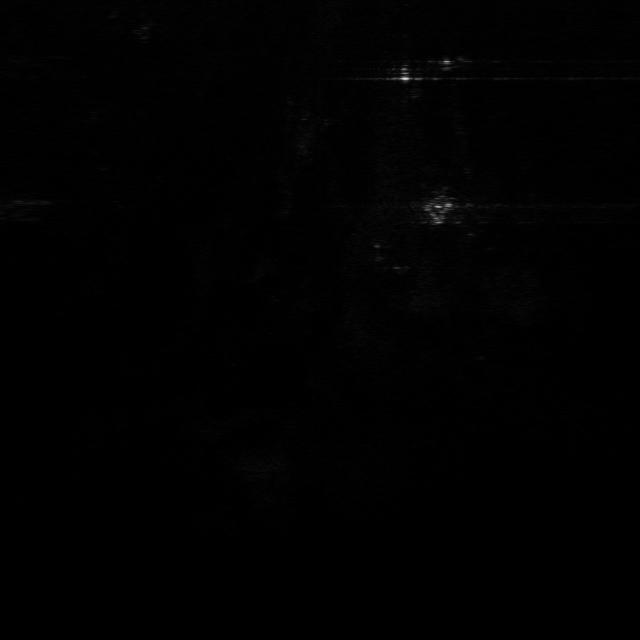rov: (417, 200, 461, 223)
